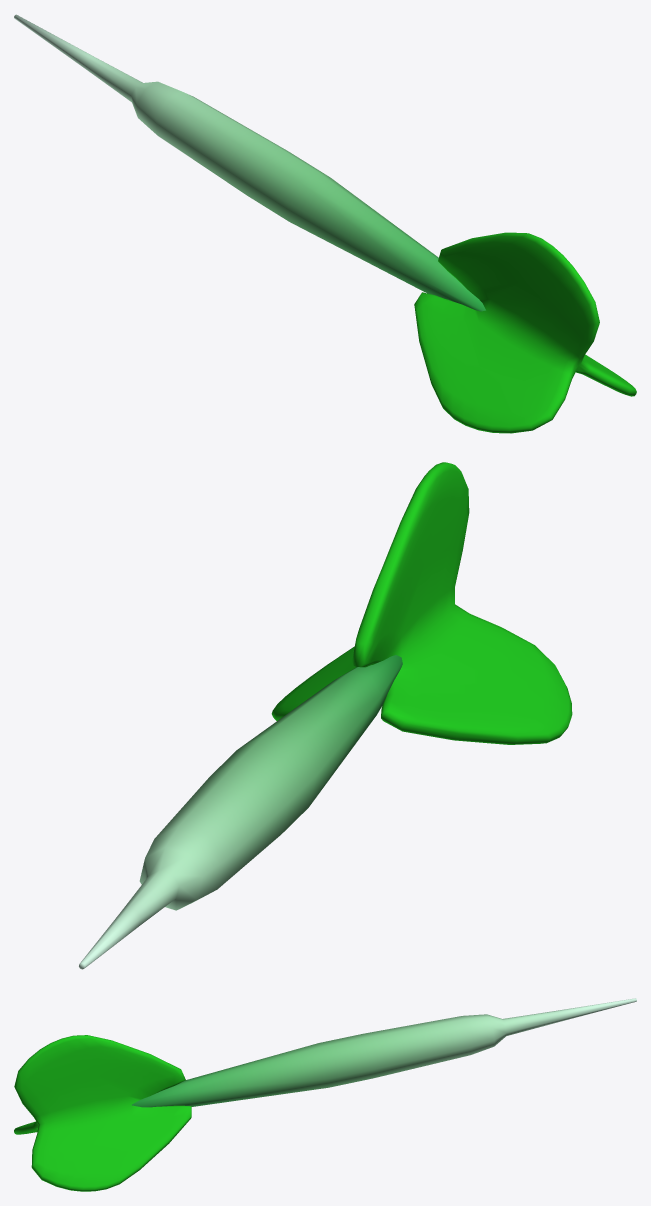
Rendered from Dart_Green.fbx.
3 views of the same model, one above another, from view 1: azimuth 30°, elevation 25°; view 2: azimuth 150°, elevation 25°; view 3: azimuth 270°, elevation 25° (orthographic). The views are drawn at different scales.
Visible parts, largest first — view 1: Dart_Green; view 2: Dart_Green; view 3: Dart_Green.
Part boxes in pixels (x1,y1,x2,y2): Dart_Green: (14,14,636,433); Dart_Green: (79,462,572,969); Dart_Green: (14,998,636,1191).
Size of the model in its own units: 0.0941 by 0.0655 by 0.2951.
